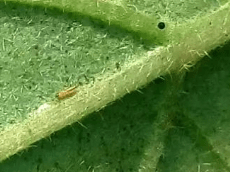thrips: (55, 85, 76, 100)
